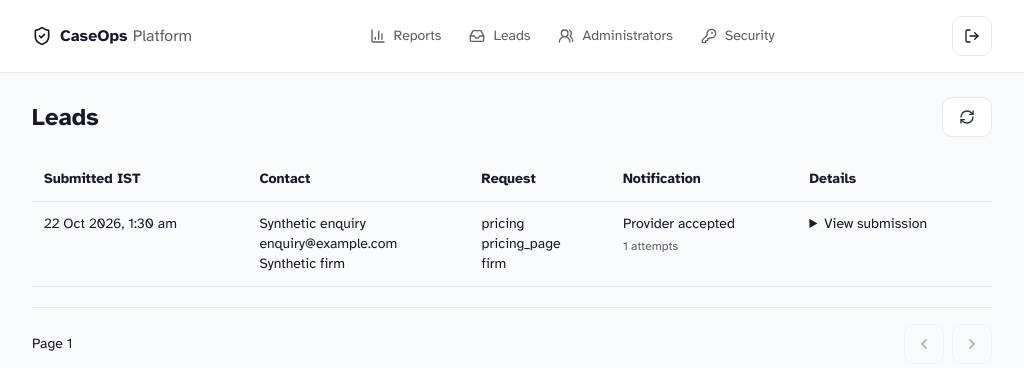
Scenario: platform leads renderer through the real console client › clears existing PII on read failure, shows safe copy, and never automatically retries
Expected: the text "enquiry@example.com" is shown, 259,235 -> 397,252
Click the button named "Reload leads".
click(967, 117)  # box 942,97 -> 992,137
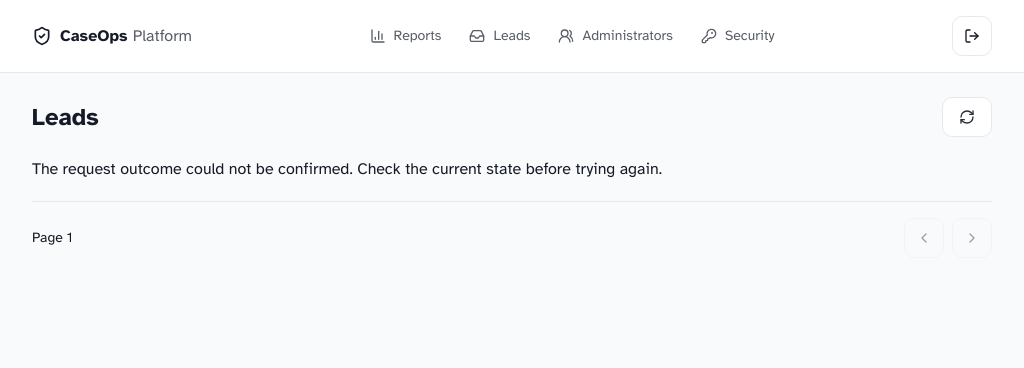
Expected: the message shows "The request outcome could not be confirmed. Check the current state before trying again.", 32,159 -> 662,179
Expected: the text "enquiry@example.com" is gone
